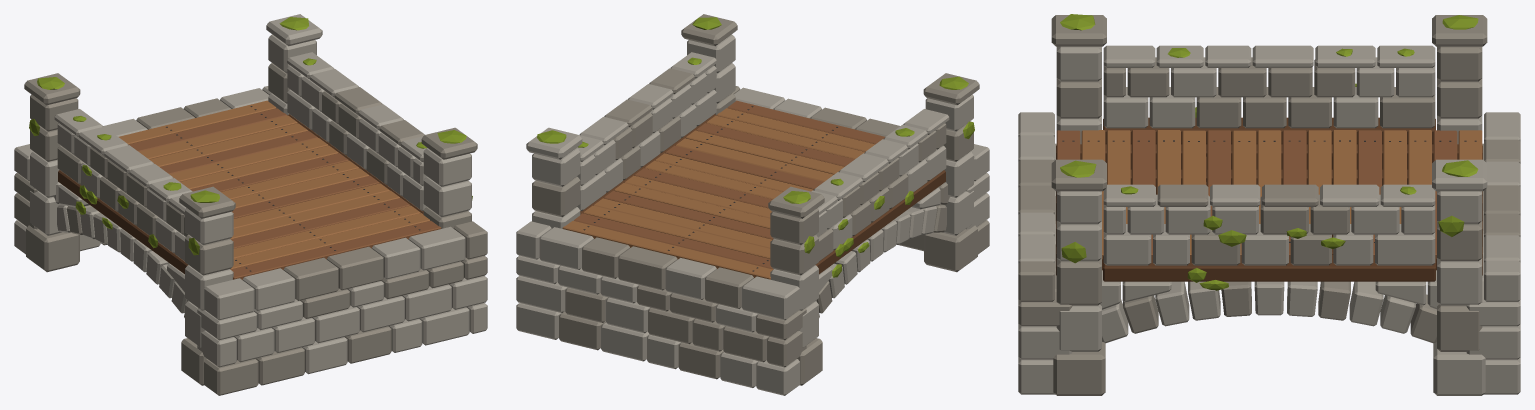
The model's file is orchard_bridge.glb.
The picture shows the model from 3 angles, left to right: view 1: azimuth 30°, elevation 25°; view 2: azimuth 150°, elevation 25°; view 3: azimuth 270°, elevation 25°; orthographic projection. The views are drawn at different scales.
Parts seen in each view (by area): view 1: bridge_stone, bridge_stone_warm, bridge_wood, bridge_wood_alt, bridge_moss, bridge_wood_dark; view 2: bridge_stone, bridge_stone_warm, bridge_wood, bridge_wood_alt, bridge_moss, bridge_wood_dark; view 3: bridge_stone, bridge_stone_warm, bridge_wood, bridge_wood_dark, bridge_wood_alt, bridge_moss.
Part boxes in pixels (x1,y1,x2,y2): bridge_stone: (14,14,487,374); bridge_stone_warm: (14,63,487,395); bridge_wood: (119,100,430,269); bridge_wood_alt: (129,108,441,279); bridge_moss: (29,17,472,255); bridge_wood_dark: (58,114,423,274); bridge_stone: (516,34,989,395); bridge_stone_warm: (532,14,989,385); bridge_wood: (562,108,874,279); bridge_wood_alt: (574,100,884,269); bridge_moss: (537,17,974,277); bridge_wood_dark: (580,114,945,274); bridge_stone: (1018,45,1520,395); bridge_stone_warm: (1018,15,1520,395); bridge_wood: (1081,130,1482,259); bridge_wood_dark: (1056,117,1482,281); bridge_wood_alt: (1056,130,1457,259); bridge_moss: (1060,14,1478,290).
Size of what is drawn, in the model's own units: 4.62 by 2.9 by 5.88.
